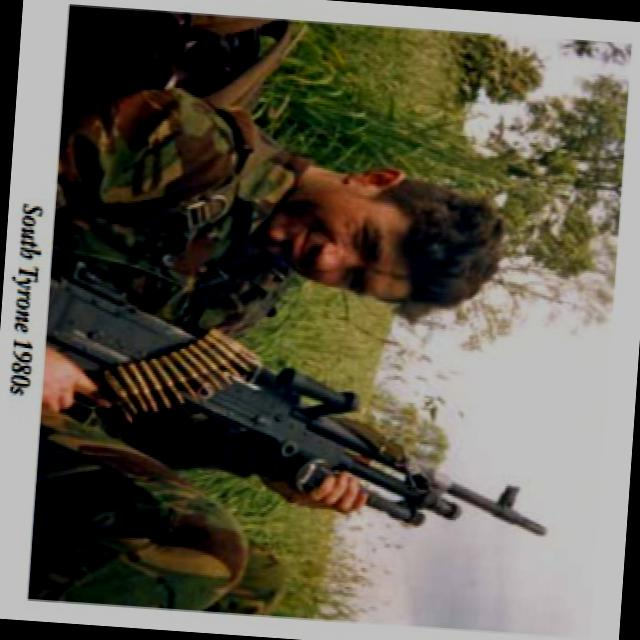long weapon: (33, 255, 573, 545)
